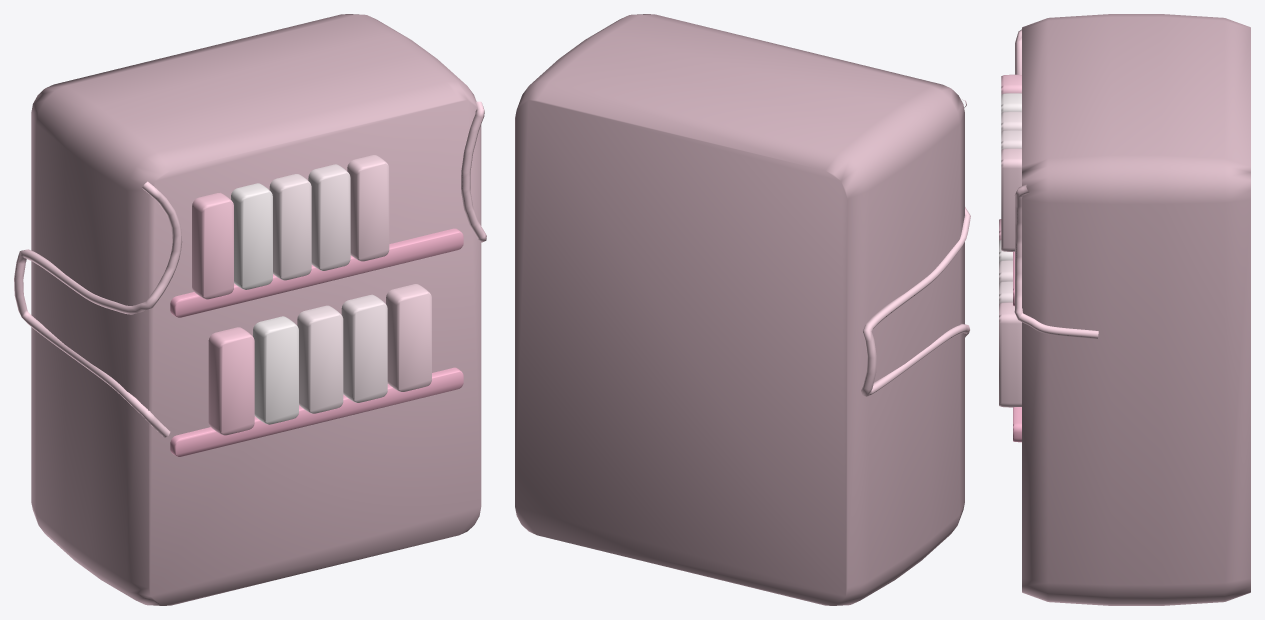
Rendered from decor_6_candy.glb.
3 renders of one model, left to right at view 1: azimuth 30°, elevation 25°; view 2: azimuth 150°, elevation 25°; view 3: azimuth 270°, elevation 25°, orthographic. The views are drawn at different scales.
Parts seen in each view (by area): view 1: decor_6_candy; view 2: decor_6_candy; view 3: decor_6_candy.
Boxes of the visible parts, x1,y1,x2,y2 form: decor_6_candy: [14, 14, 486, 605]; decor_6_candy: [515, 14, 970, 605]; decor_6_candy: [999, 14, 1250, 605].
Bounding box in the file's own units: 13.36 × 15.84 × 8.08.
